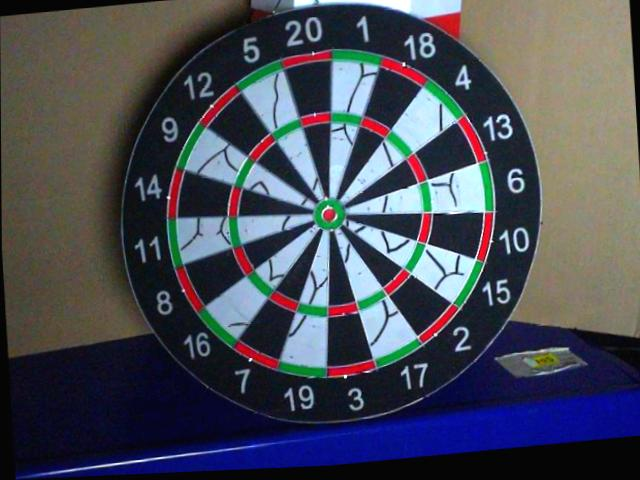double_1: (332, 51, 382, 62)
double_11: (169, 219, 183, 271)
double_15: (453, 261, 482, 306)
double_16: (198, 308, 238, 348)
double_17: (377, 339, 423, 369)
double_19: (277, 363, 327, 378)
double_4: (426, 83, 464, 119)
double_5: (240, 62, 281, 92)
double_6: (474, 164, 498, 211)
double_9: (180, 131, 203, 167)
